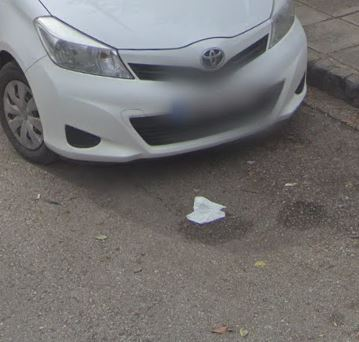trash: (181, 186, 232, 229)
